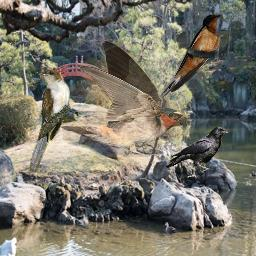Crow: (166, 126, 230, 178)
Cuckoo: (29, 69, 71, 173)
Swallow: (60, 40, 188, 157), (157, 12, 224, 99)
